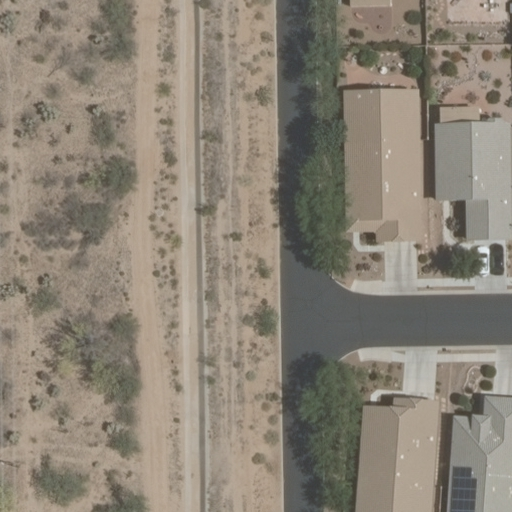DT: (2, 454, 30, 473)
